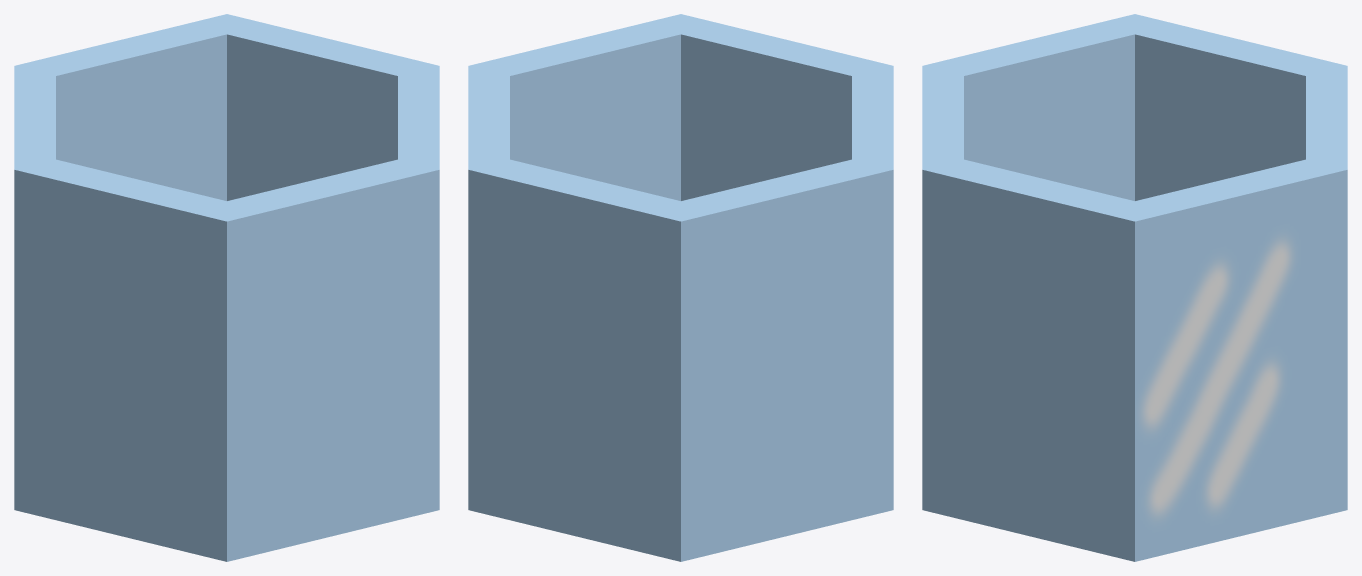
Rendered from glass.fbx.
3 renders of one model, left to right at view 1: azimuth 30°, elevation 25°; view 2: azimuth 150°, elevation 25°; view 3: azimuth 270°, elevation 25°, orthographic.
Parts seen in each view (by area): view 1: glass; view 2: glass; view 3: glass.
Boxes of the visible parts, x1,y1,x2,y2 form: glass: (14, 14, 439, 561); glass: (468, 14, 893, 561); glass: (922, 14, 1347, 561).
Bounding box in the file's own units: 15.56 × 11.9 × 13.48.
1 material, 1 textured.
